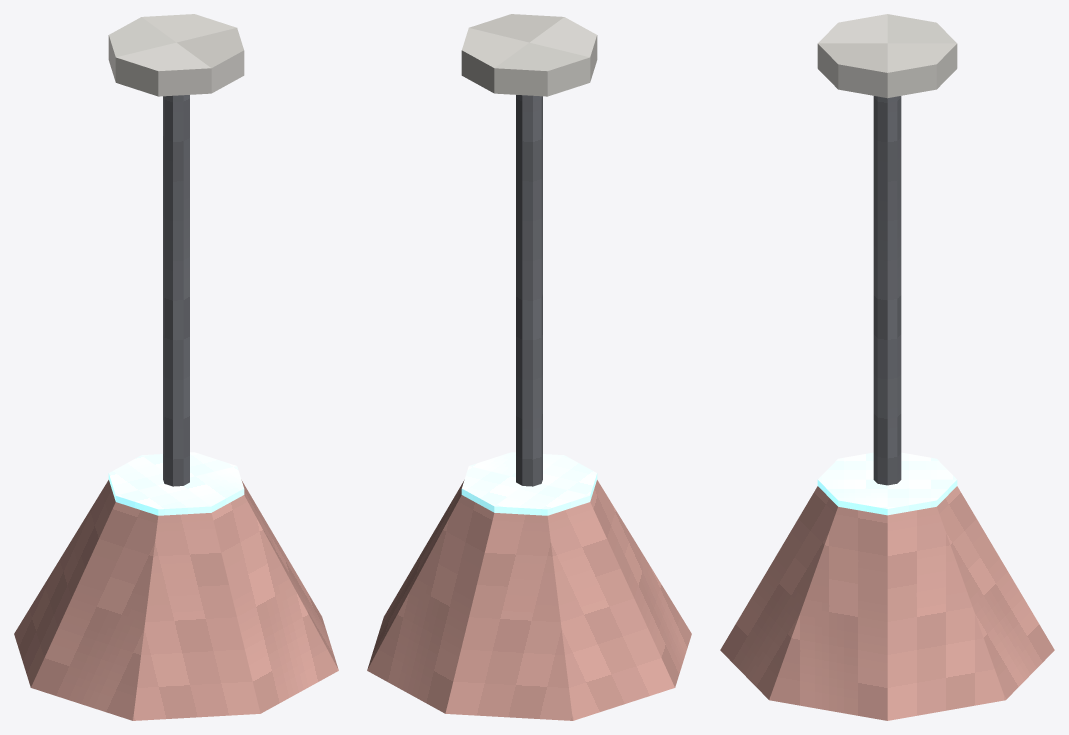
The model's file is pixel-modern-apartments-pendant-lamp-6f930cc6__29845.glb.
The picture shows the model from 3 angles, left to right: view 1: azimuth 30°, elevation 25°; view 2: azimuth 150°, elevation 25°; view 3: azimuth 270°, elevation 25°; orthographic projection.
Parts seen in each view (by area): view 1: pendant-lamp; view 2: pendant-lamp; view 3: pendant-lamp.
Part boxes in pixels (x1,y1,x2,y2): pendant-lamp: (14,14,338,720); pendant-lamp: (367,14,691,720); pendant-lamp: (720,14,1054,720).
Size of the model in its own units: 0.48 by 0.96 by 0.48.
4 materials, 4 textured.
